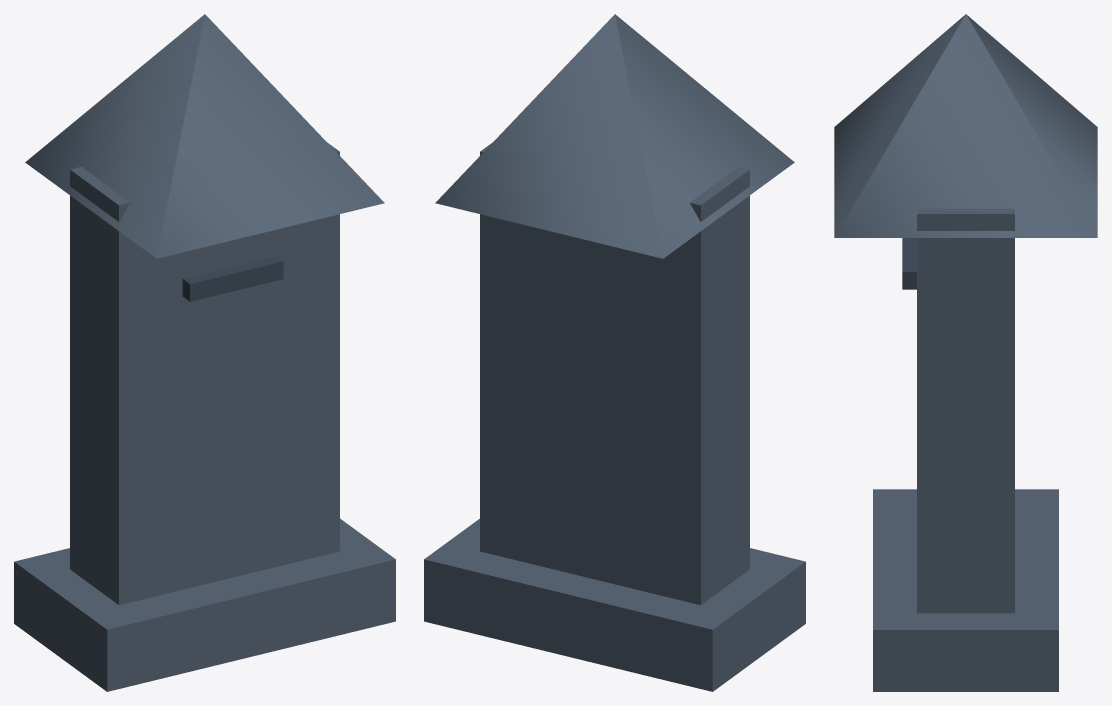
Rendered from grave_b.glb.
3 views of the same model, side by side, from view 1: azimuth 30°, elevation 25°; view 2: azimuth 150°, elevation 25°; view 3: azimuth 270°, elevation 25° (orthographic).
Size of the model in its own units: 0.68 by 1.37 by 0.5374.
